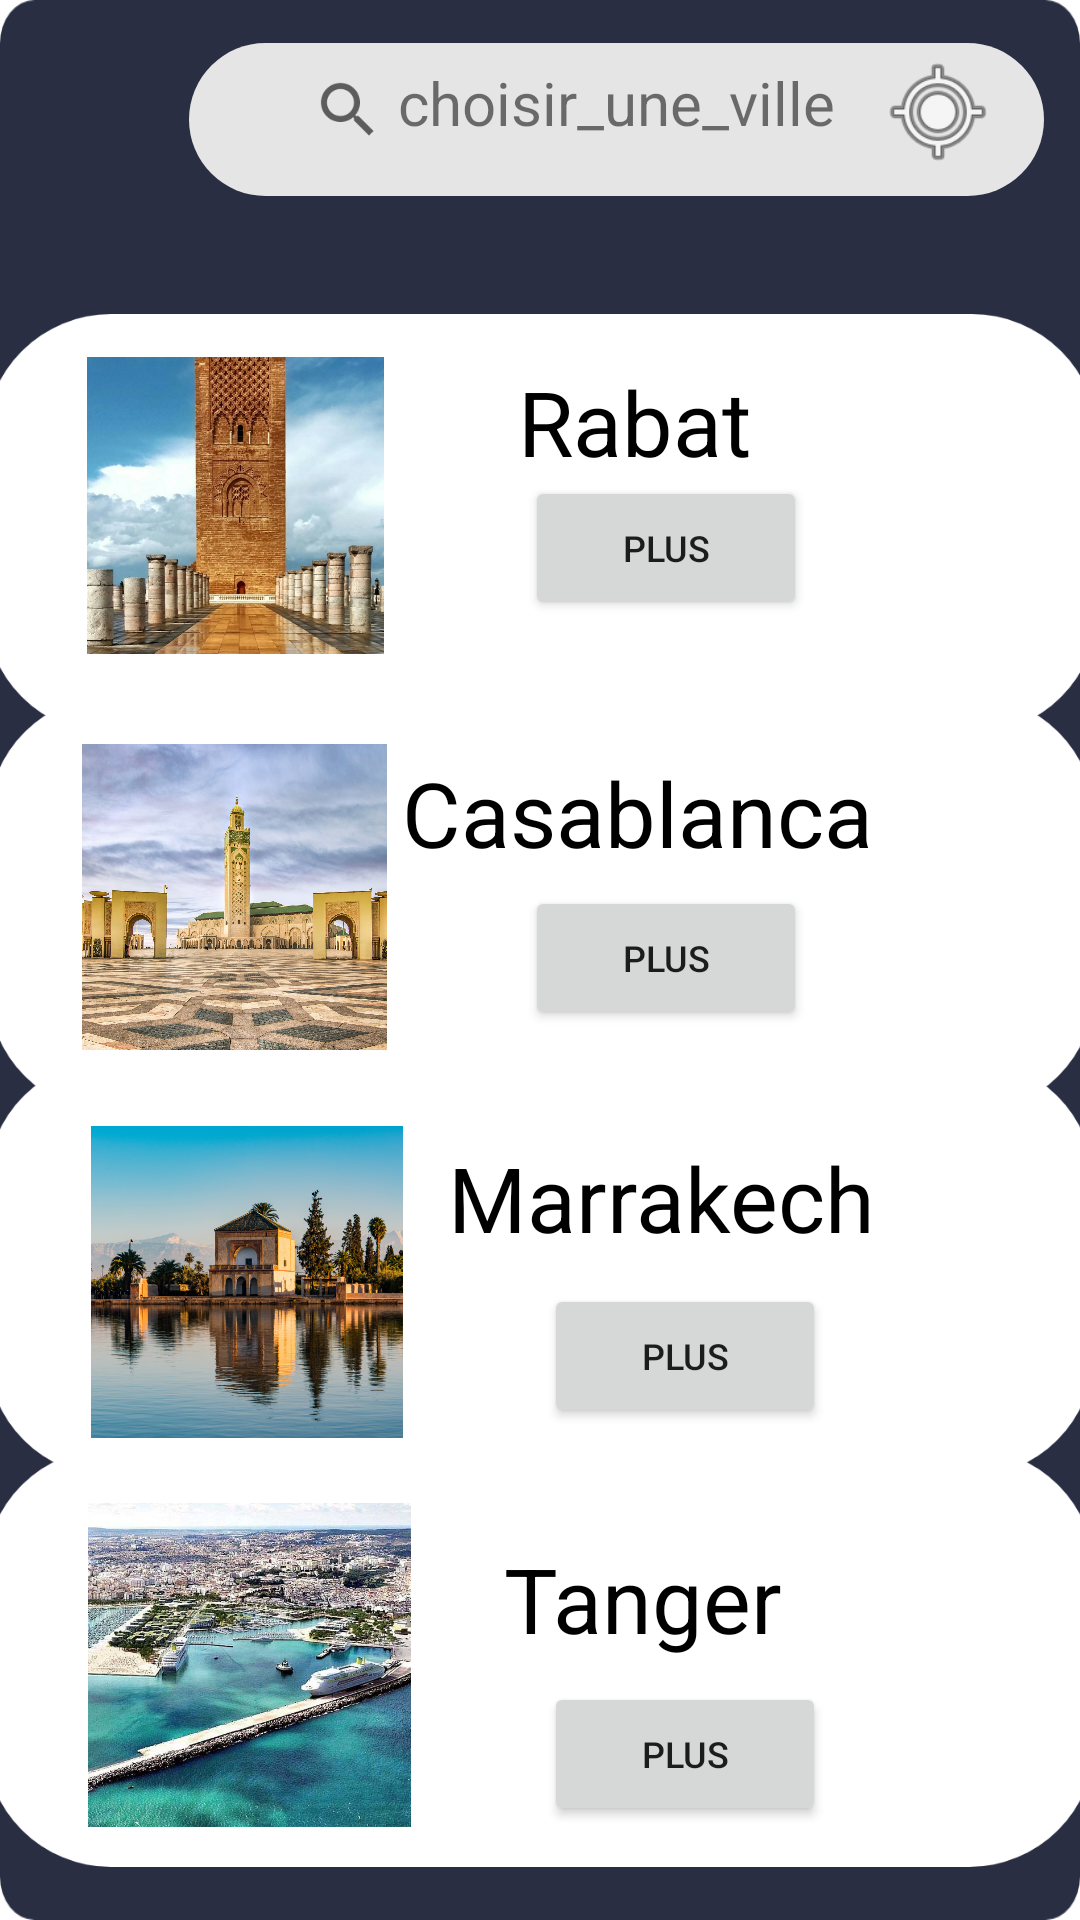

Icon bounding boxes for this 1080 x 1920 phone screenshot, format [left=x1, top=y1, right=x2, bottom=y2]:
mylocation: [left=890, top=64, right=986, bottom=160]
